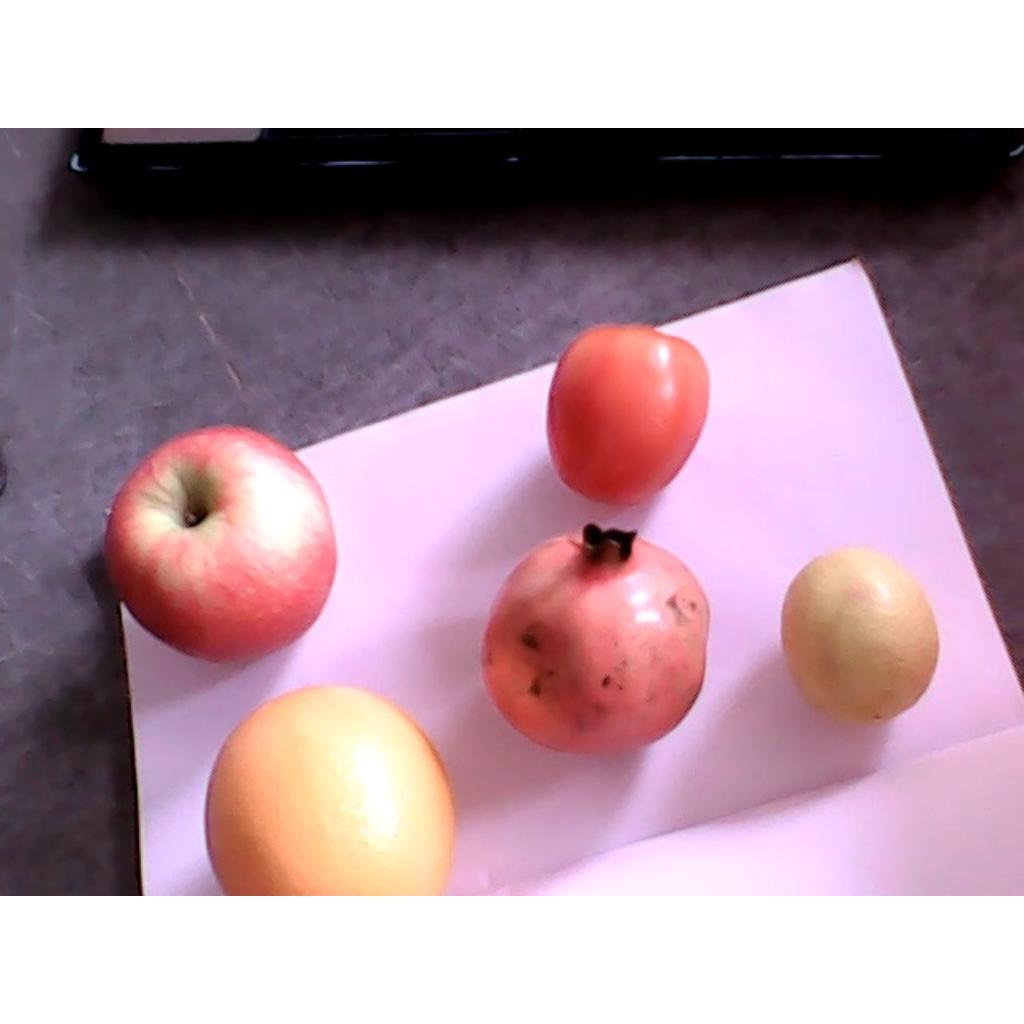apple: (104, 425, 338, 665)
lemon: (781, 551, 938, 725)
orange: (207, 689, 455, 894)
pomegranate: (479, 522, 710, 757)
tomato: (547, 325, 709, 504)
